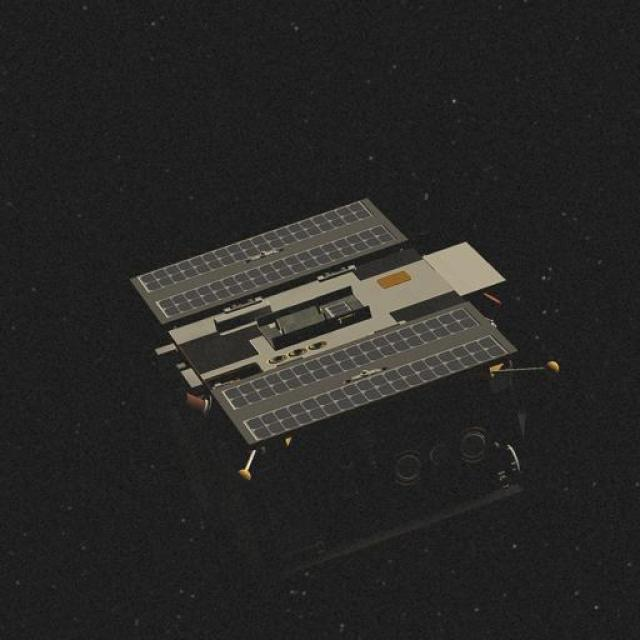proba_2: (122, 263, 563, 533)
